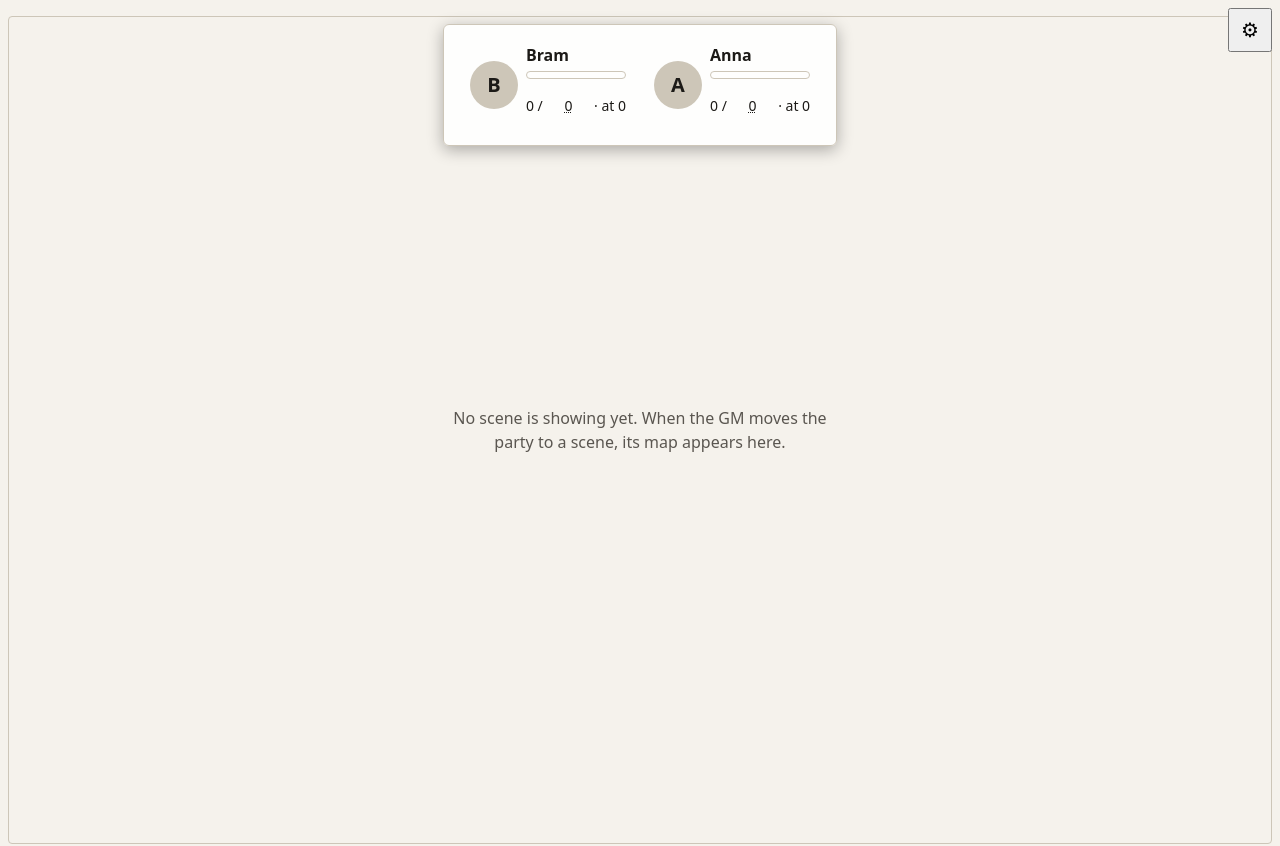
Test: party bar › lists the members in party order and opens one on click
What coordinates should you click on to do the following:
click the button "B Bram 0 / 0 · at 0"
I would click on:
 (548, 85)
Its box is [460, 33, 636, 137].
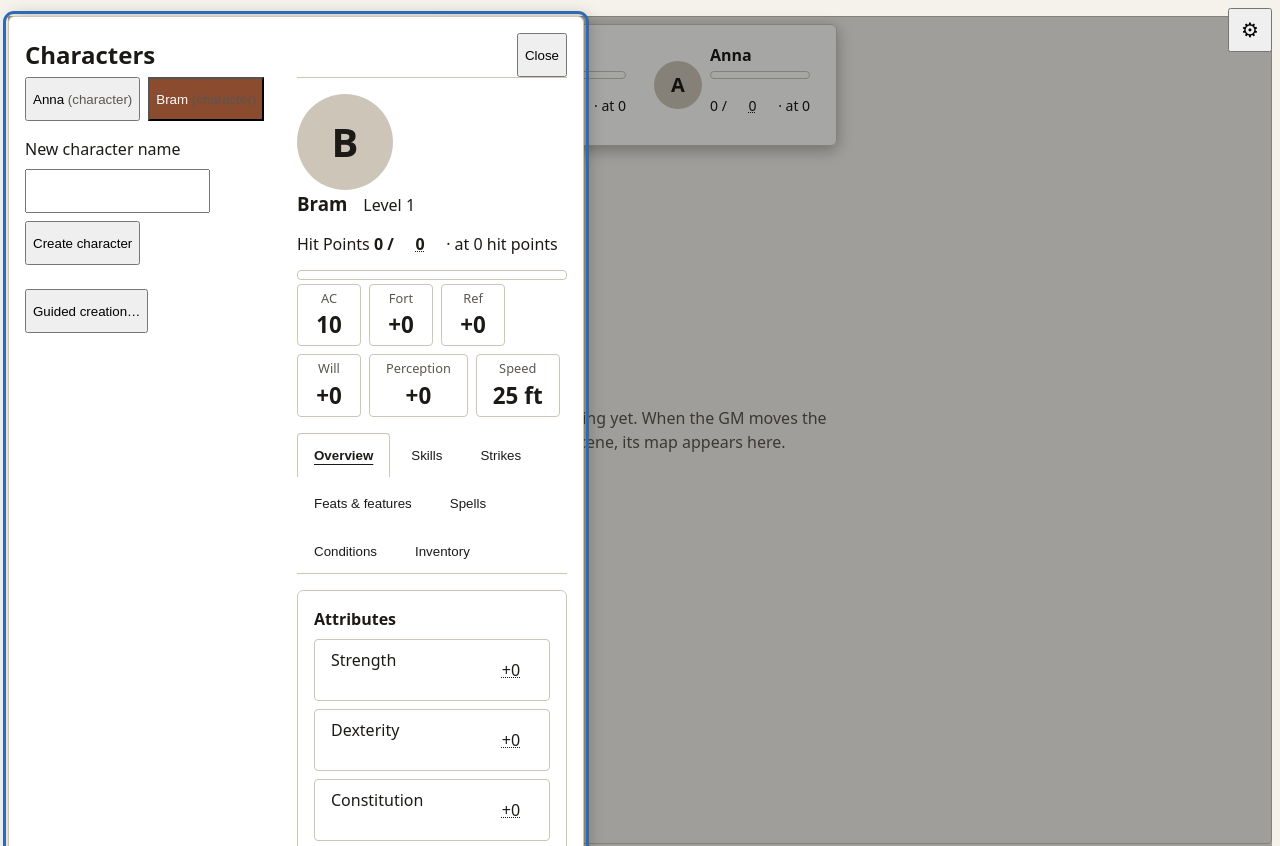
Now the heading "Bram" is shown, box [297, 190, 347, 218]
